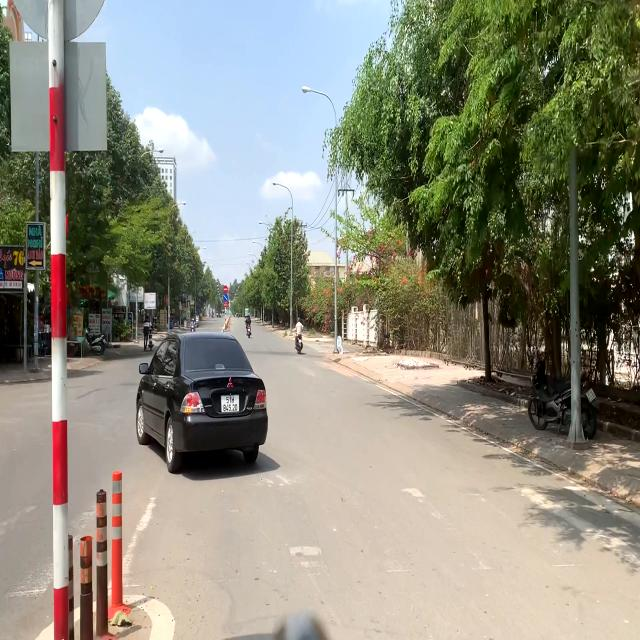P.102: (223, 286, 228, 294)
R.302a: (223, 293, 228, 302)
